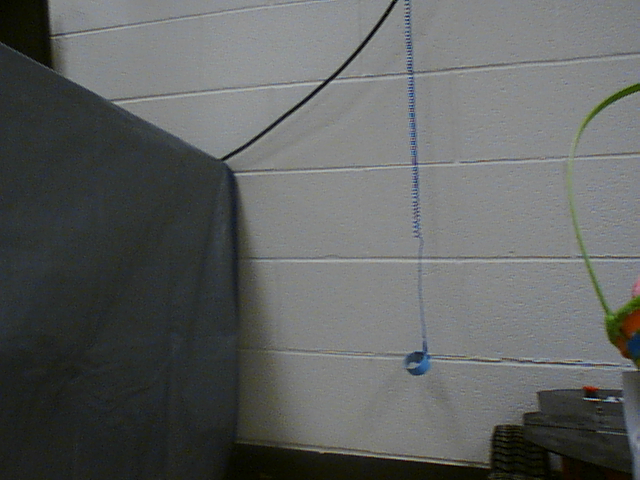bunny: (551, 63, 640, 394)
